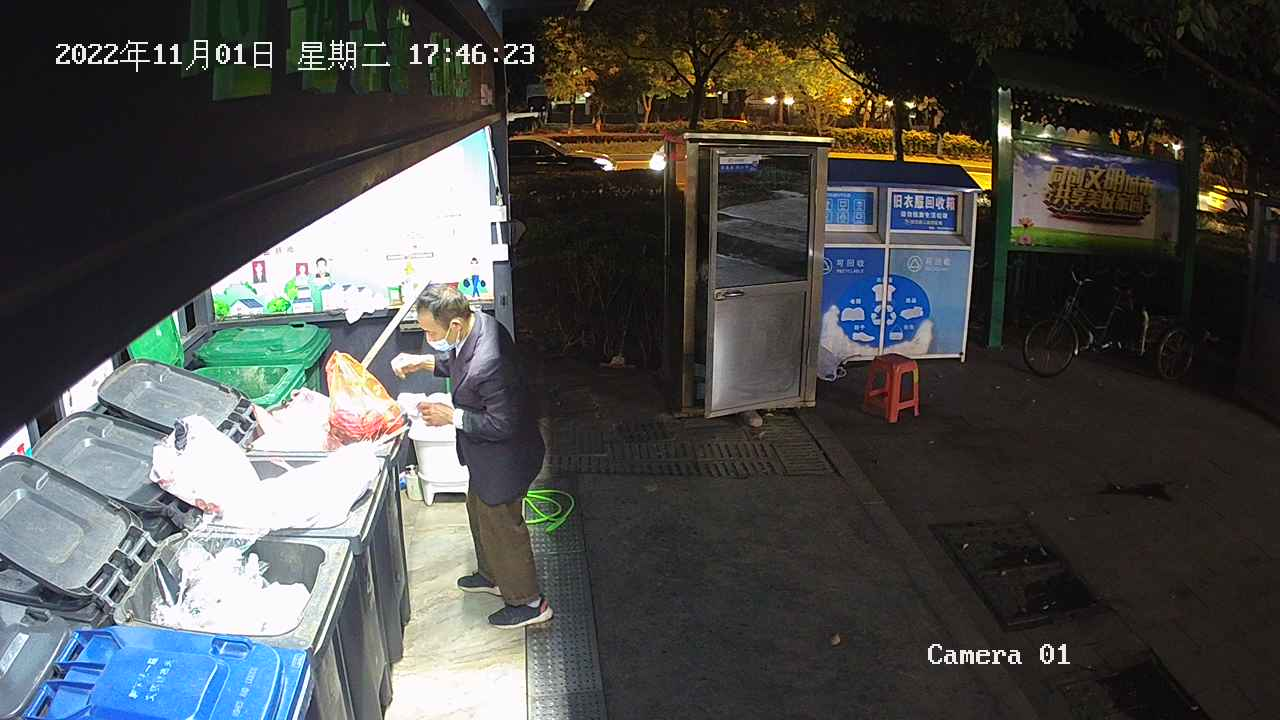person: (389, 281, 556, 630)
